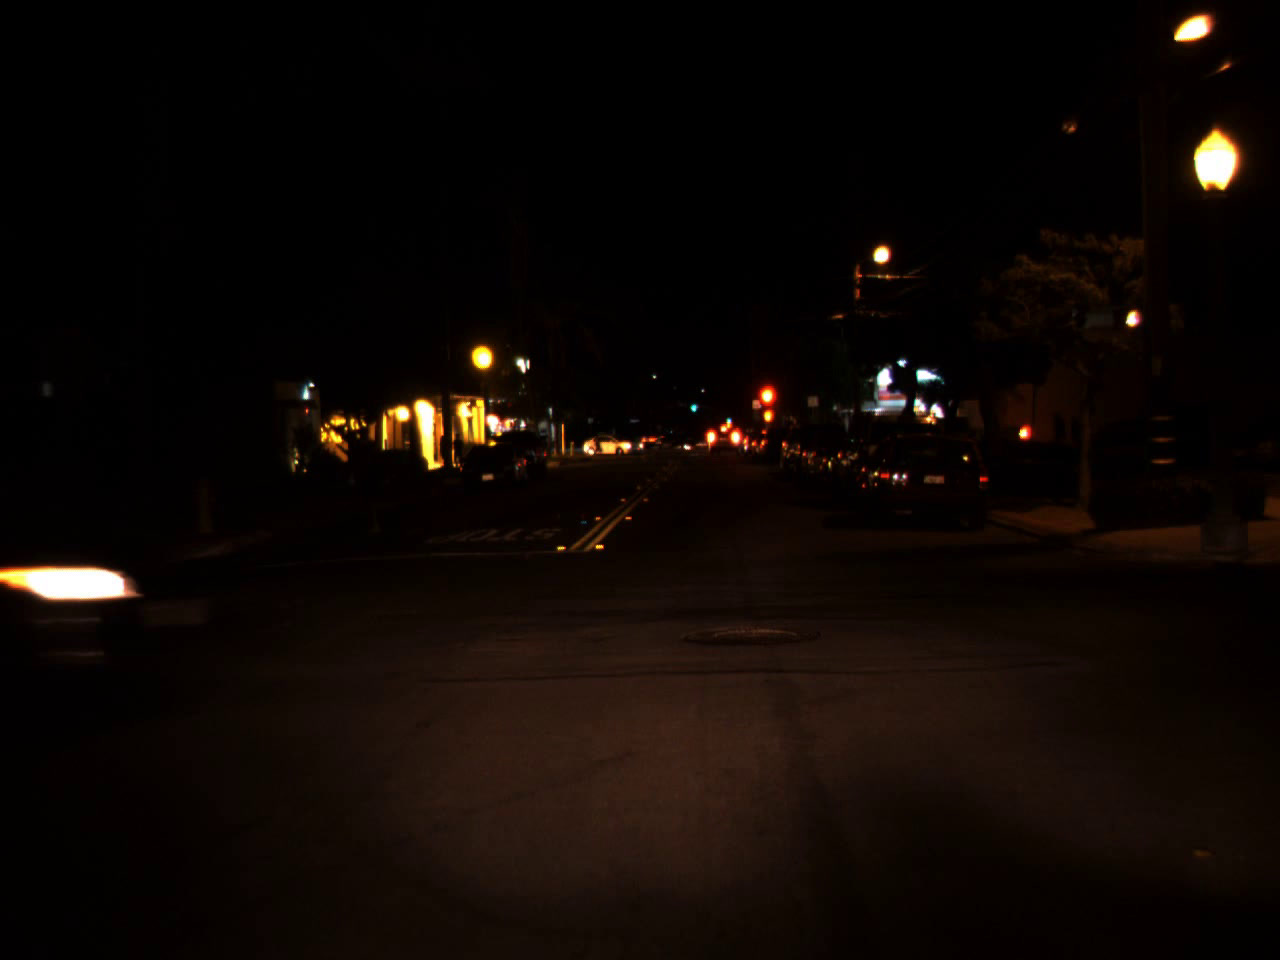go: (688, 397, 697, 412), (724, 411, 731, 423)
stop: (756, 384, 780, 432)
